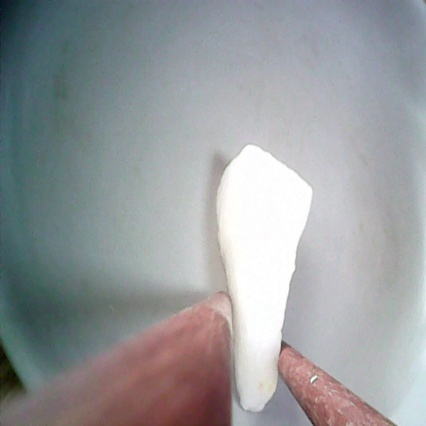white_chinese-yam: (215, 141, 314, 418)
